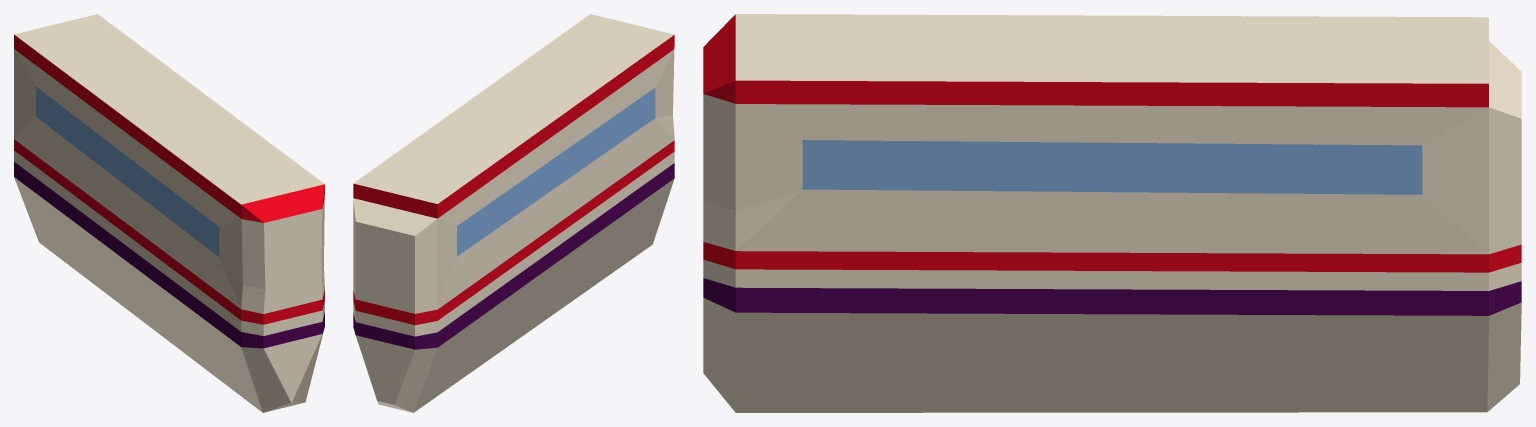
Rendered from vagon.glb.
The picture shows the model from 3 angles, left to right: view 1: azimuth 30°, elevation 25°; view 2: azimuth 150°, elevation 25°; view 3: azimuth 270°, elevation 25°; orthographic projection. The views are drawn at different scales.
Visible parts, largest first — view 1: vagon; view 2: vagon; view 3: vagon.
Boxes of the visible parts, x1=… form: vagon: x1=14, y1=14, x2=324, y2=412; vagon: x1=353, y1=14, x2=674, y2=412; vagon: x1=703, y1=14, x2=1521, y2=412.
Size of the model in its own units: 4.52 by 10.21 by 21.77.
